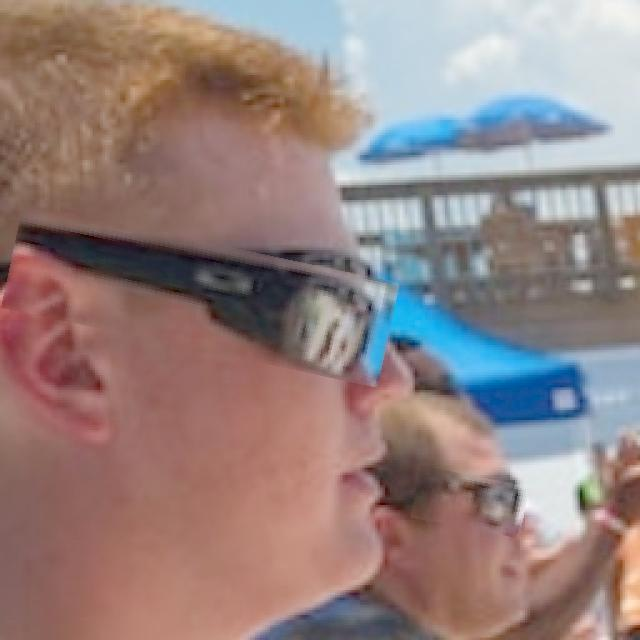glasses: (5, 223, 396, 368), (412, 470, 527, 533)
